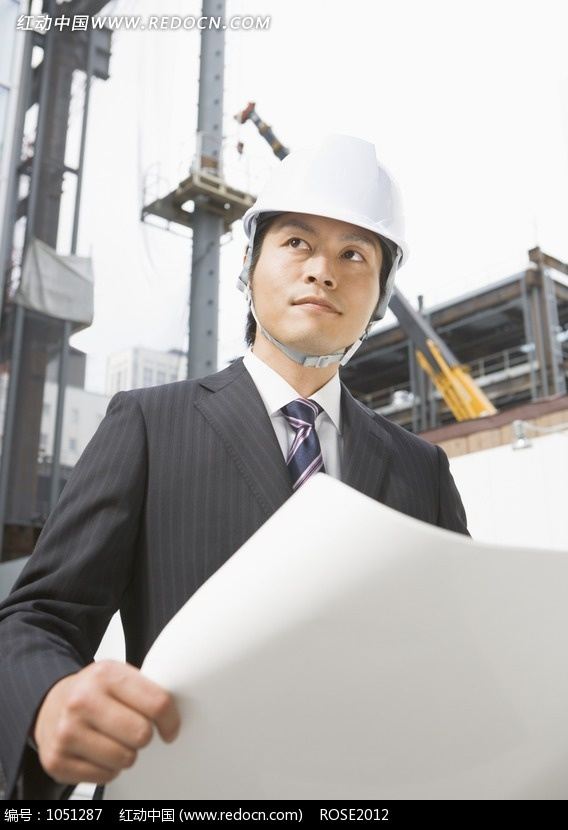white: (241, 131, 406, 377)
